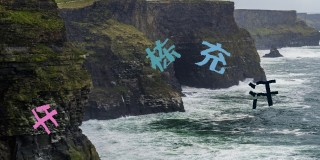充: (195, 40, 231, 74)
栋: (144, 37, 181, 72)
汗: (248, 78, 280, 110)
牛: (30, 103, 59, 135)
